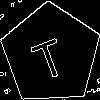T: (26, 29, 69, 82)
